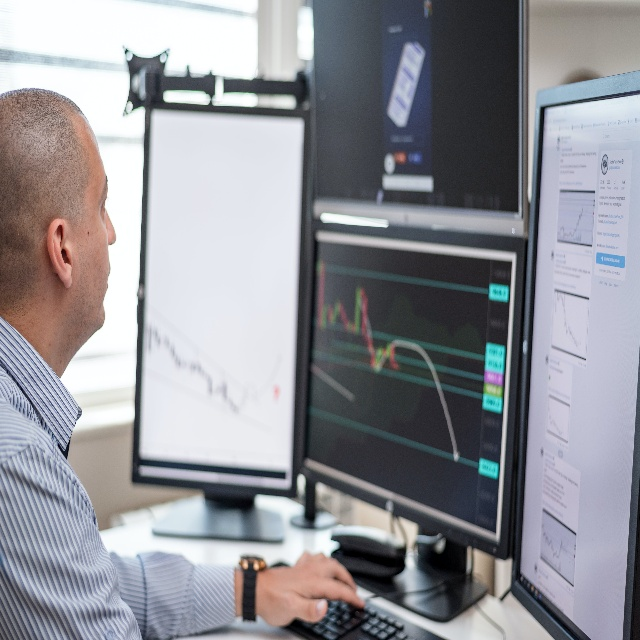Sin_guantes: (257, 550, 367, 629)
